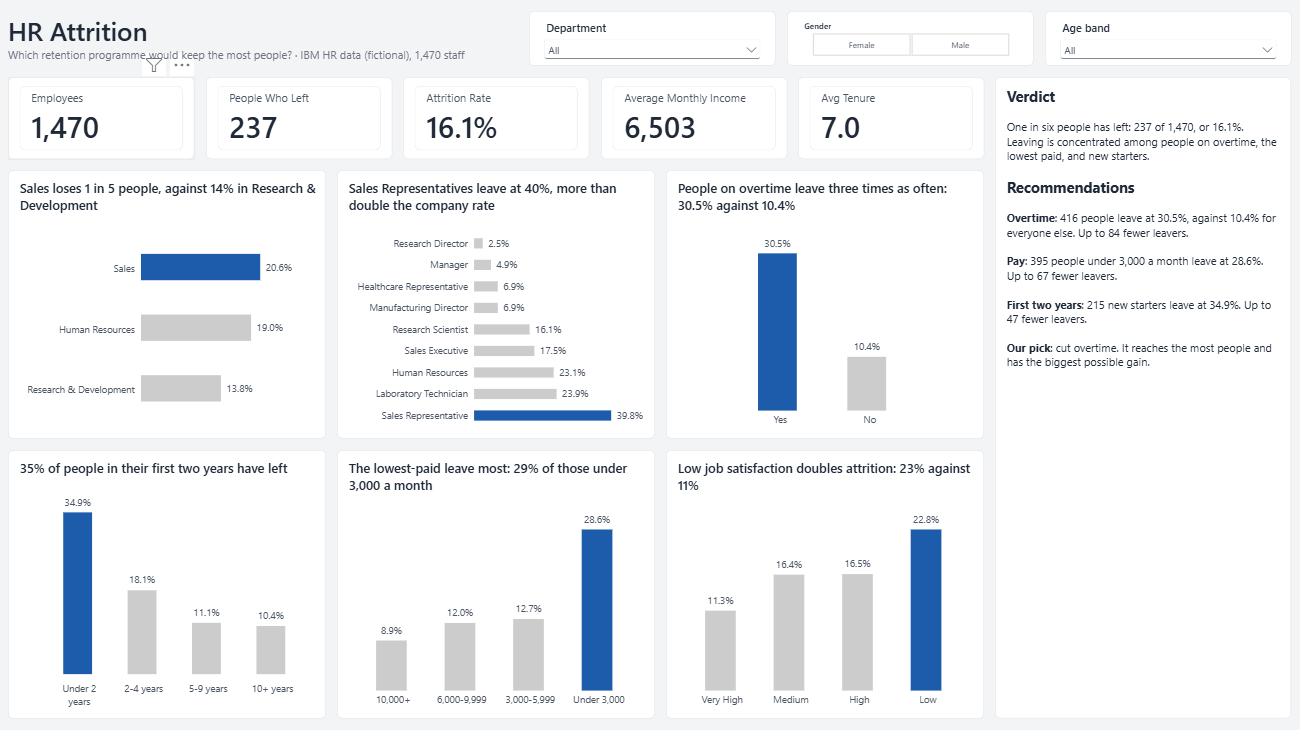

The dashboard page shown, as its layout file describes it:
{"tool":"powerbi","page":{"name":"Page 1","canvas":[1920,1080],"ordinal":0},"visuals":[{"type":"cardVisual","fields":{"Data":["employees.Headcount Label"]},"box":[24,120,272,120],"z":0},{"type":"cardVisual","fields":{"Data":["employees.Leavers Label"]},"box":[312,120,272,120],"z":1000},{"type":"cardVisual","fields":{"Data":["employees.Attrition Rate"]},"box":[600,120,272,120],"z":2000},{"type":"cardVisual","fields":{"Data":["employees.Avg Tenure"]},"box":[1176,120,272,120],"z":3000},{"type":"cardVisual","fields":{"Data":["employees.Avg Income Label"]},"box":[888,120,272,120],"z":4000},{"type":"textbox","box":[24,24,736,80],"z":5000},{"type":"clusteredBarChart","title":"Sales loses 1 in 5 people, against 14% in Research & Development","fields":{"Category":["employees.department"],"Y":["employees.Attrition Rate"]},"box":[24,256,464,392],"z":6000},{"type":"clusteredBarChart","title":"Sales Representatives leave at 40%, more than double the company rate","fields":{"Category":["employees.job_role"],"Y":["employees.Attrition Rate"]},"box":[504,256,464,392],"z":7000},{"type":"clusteredColumnChart","title":"People on overtime leave three times as often: 30.5% against 10.4%","fields":{"Category":["employees.overtime"],"Y":["employees.Attrition Rate"]},"box":[984,256,464,392],"z":8000},{"type":"clusteredColumnChart","title":"35% of people in their first two years have left","fields":{"Category":["employees.tenure_band"],"Y":["employees.Attrition Rate"]},"box":[24,664,464,392],"z":9000},{"type":"clusteredColumnChart","title":"The lowest-paid leave most: 29% of those under 3,000 a month","fields":{"Category":["employees.income_band"],"Y":["employees.Attrition Rate"]},"box":[504,664,464,392],"z":10000},{"type":"clusteredColumnChart","title":"Low job satisfaction doubles attrition: 23% against 11%","fields":{"Category":["satisfaction_levels.satisfaction_level"],"Y":["employees.Attrition Rate"]},"box":[984,664,464,392],"z":11000},{"type":"slicer","fields":{"Values":["employees.department"]},"box":[784,24,360,80],"z":12000},{"type":"slicer","fields":{"Values":["employees.gender"]},"box":[1160,24,360,80],"z":13000},{"type":"slicer","fields":{"Values":["employees.age_band"]},"box":[1536,24,360,80],"z":14000},{"type":"textbox","box":[1464,120,432,936],"z":15000}]}

Visuals, with their boxes in screenshot pixels (x1, y1, x2, y2), scaled from the page's 1920x1080 canvas onto the 1300x730 screenshot:
cardVisual - employees.Headcount Label: (16,81,200,162)
cardVisual - employees.Leavers Label: (211,81,395,162)
cardVisual - employees.Attrition Rate: (406,81,590,162)
cardVisual - employees.Avg Tenure: (796,81,980,162)
cardVisual - employees.Avg Income Label: (601,81,785,162)
textbox: (16,16,515,70)
"Sales loses 1 in 5 people, against 14% in Research & Development" clusteredBarChart: (16,173,330,438)
"Sales Representatives leave at 40%, more than double the company rate" clusteredBarChart: (341,173,655,438)
"People on overtime leave three times as often: 30.5% against 10.4%" clusteredColumnChart: (666,173,980,438)
"35% of people in their first two years have left" clusteredColumnChart: (16,449,330,714)
"The lowest-paid leave most: 29% of those under 3,000 a month" clusteredColumnChart: (341,449,655,714)
"Low job satisfaction doubles attrition: 23% against 11%" clusteredColumnChart: (666,449,980,714)
slicer - employees.department: (531,16,775,70)
slicer - employees.gender: (785,16,1029,70)
slicer - employees.age_band: (1040,16,1284,70)
textbox: (991,81,1284,714)
